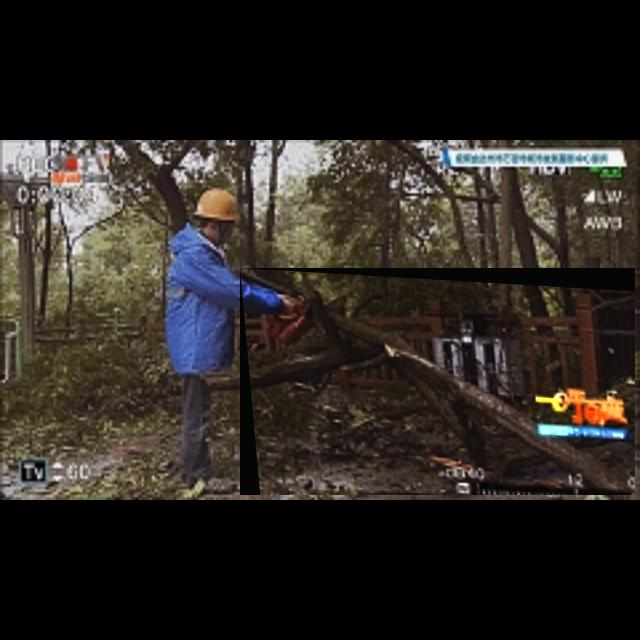Fallen Tree: (240, 268, 636, 496)
